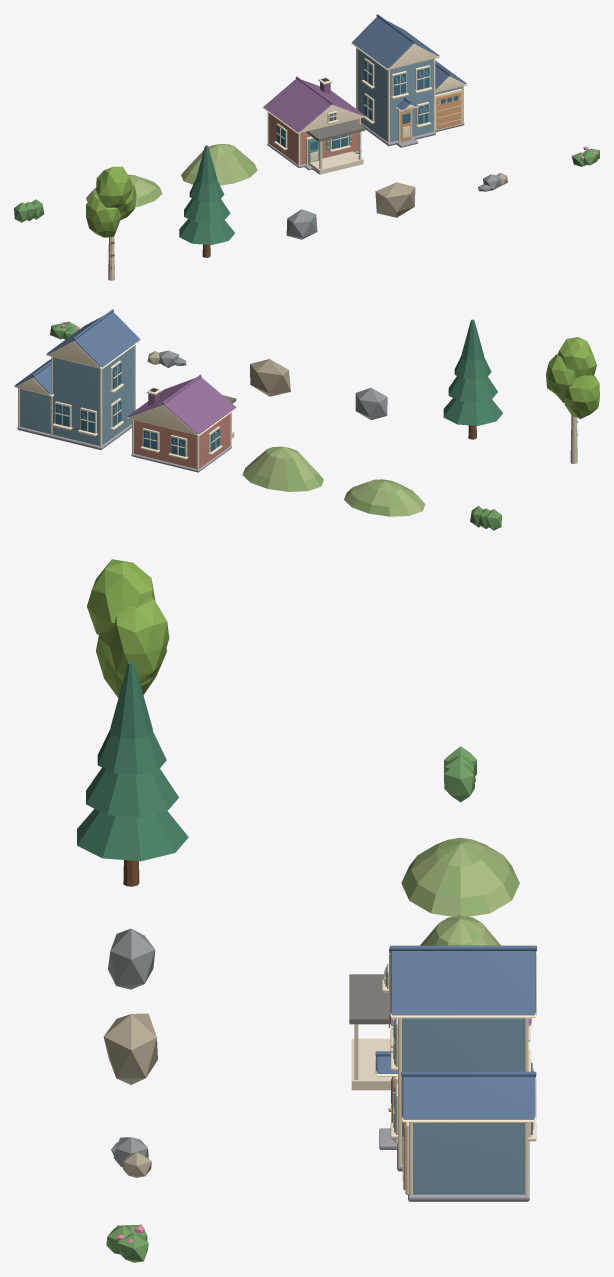
Rendered from NeighborhoodDetails.fbx.
3 renders of one model, top to bottom at view 1: azimuth 30°, elevation 25°; view 2: azimuth 150°, elevation 25°; view 3: azimuth 270°, elevation 25°, orthographic. The views are drawn at different scales.
Parts seen in each view (by area): view 1: House_Family_Mesh.001, House_Cottage_Mesh.001, Grassy rise.001, Birch crown.002, Weathered rock.001, Cedar canopy, Birch crown, Cedar canopy.001, Weathered rock, Porch deck, Grassy rise, Porch awning (+2 smaller); view 2: House_Family_Mesh.001, House_Cottage_Mesh.001, Grassy rise.001, Grassy rise, Cedar canopy, Birch crown, Weathered rock.001, Birch crown.002, Cedar canopy.001, Birch crown.001, Weathered rock, Cedar canopy.002 (+2 smaller); view 3: House_Family_Mesh.001, Grassy rise, Cedar canopy, Birch crown.001, Cedar canopy.001, Birch crown.002, Weathered rock.001, Cedar canopy.002, Weathered rock, Cedar canopy.003, Porch awning, Grassy rise.001 (+2 smaller).
Part boxes in pixels (x1,y1,x2,y2): House_Family_Mesh.001: (351, 14, 467, 147); House_Cottage_Mesh.001: (263, 76, 365, 170); Grassy rise.001: (181, 144, 257, 185); Birch crown.002: (96, 166, 133, 208); Weathered rock.001: (375, 182, 415, 217); Cedar canopy: (179, 219, 234, 245); Birch crown: (86, 194, 120, 237); Cedar canopy.001: (184, 198, 230, 223); Weathered rock: (286, 209, 317, 239); Porch deck: (309, 151, 363, 174); Grassy rise: (86, 174, 162, 207); Porch awning: (306, 120, 365, 141); House_Family_Mesh.001: (14, 309, 140, 450); House_Cottage_Mesh.001: (127, 374, 236, 472); Grassy rise.001: (242, 446, 323, 491); Grassy rise: (344, 479, 425, 516); Cedar canopy: (443, 398, 502, 425); Birch crown: (564, 375, 599, 418); Weathered rock.001: (250, 359, 290, 396); Birch crown.002: (557, 337, 596, 377); Cedar canopy.001: (448, 376, 497, 402); Birch crown.001: (546, 354, 576, 402); Weathered rock: (355, 387, 387, 419); Cedar canopy.002: (454, 355, 491, 379); House_Family_Mesh.001: (375, 945, 536, 1201); Grassy rise: (401, 837, 519, 916); Cedar canopy: (77, 809, 188, 861); Birch crown.001: (98, 596, 169, 683); Cedar canopy.001: (86, 767, 178, 817); Birch crown.002: (87, 559, 155, 634); Weathered rock.001: (103, 1013, 157, 1084); Cedar canopy.002: (97, 729, 166, 774); Weathered rock: (108, 928, 155, 989); Cedar canopy.003: (110, 661, 152, 739); Porch awning: (349, 974, 388, 1024); Grassy rise.001: (420, 915, 500, 945).
Size of the model in its own units: 4308 by 983 by 1675.
